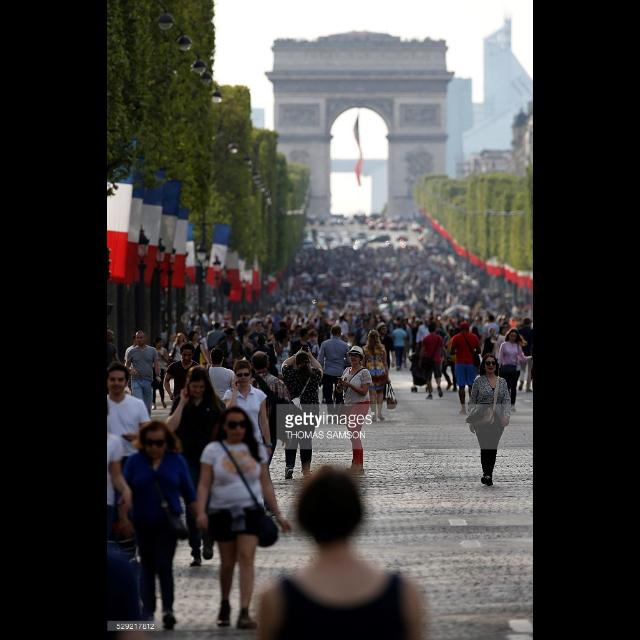head: (304, 470, 358, 546), (143, 423, 171, 461), (223, 409, 249, 441), (107, 365, 131, 395), (188, 367, 210, 399), (234, 360, 253, 388), (251, 352, 271, 372), (482, 354, 500, 374), (180, 342, 196, 364), (210, 348, 226, 366), (296, 352, 312, 370), (350, 348, 364, 366), (136, 330, 148, 346), (369, 330, 381, 344), (331, 325, 343, 337), (508, 330, 520, 342), (378, 322, 388, 336), (226, 328, 238, 339), (134, 334, 144, 346), (106, 331, 115, 343), (190, 332, 200, 342), (461, 322, 471, 332), (156, 338, 164, 348), (430, 324, 438, 334), (525, 318, 533, 328), (178, 333, 186, 342), (447, 323, 455, 332), (501, 328, 509, 337), (490, 329, 498, 337), (504, 323, 512, 331), (399, 323, 405, 329)
person: (195, 405, 297, 633), (111, 419, 202, 627), (166, 367, 228, 567), (223, 359, 274, 531), (107, 362, 151, 546), (244, 350, 294, 488), (466, 354, 514, 488), (280, 344, 326, 481), (336, 345, 372, 477), (165, 340, 208, 446), (205, 346, 237, 459), (361, 328, 399, 422), (126, 329, 162, 427), (319, 323, 353, 422), (451, 321, 484, 415), (420, 324, 450, 401), (124, 332, 150, 412), (371, 321, 397, 401), (216, 329, 244, 396), (495, 322, 517, 394), (186, 329, 212, 388), (442, 323, 463, 392), (152, 335, 170, 409), (107, 328, 125, 398), (493, 326, 512, 386), (170, 332, 190, 382), (482, 327, 502, 375), (391, 323, 409, 372)
